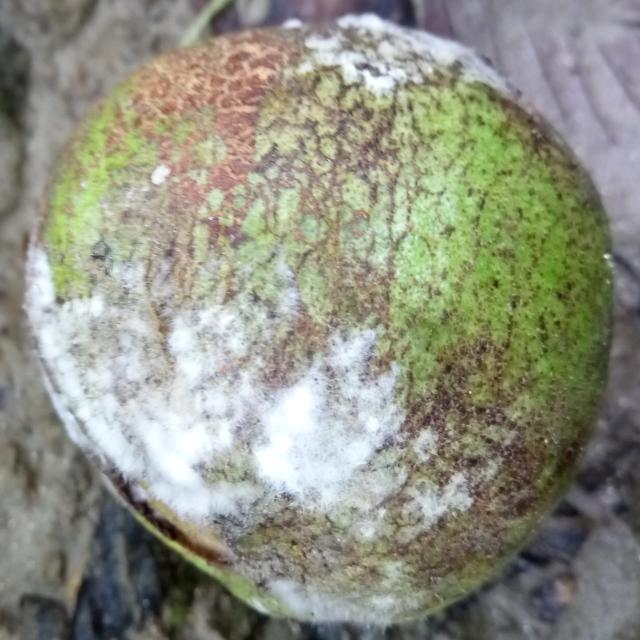Phytopthora: (26, 17, 612, 625)
